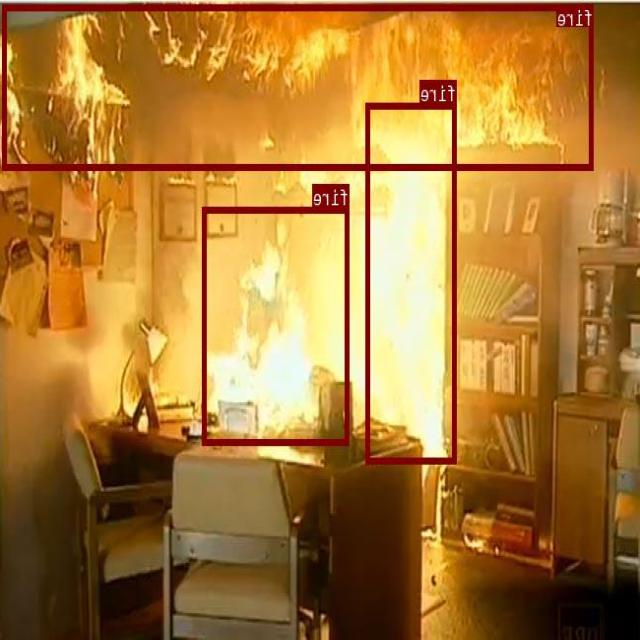fire: (3, 3, 594, 170), (204, 206, 350, 444), (367, 103, 457, 462)
